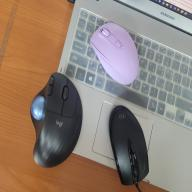mouse: (29, 71, 83, 171), (107, 104, 149, 186), (88, 22, 140, 85)
